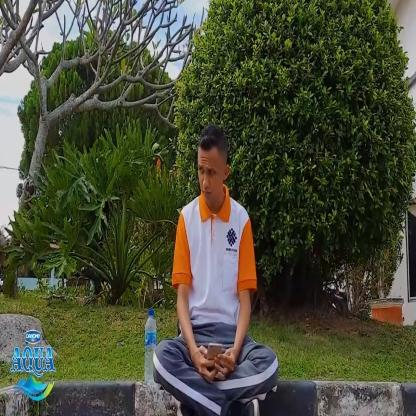plastic_bottles: (141, 303, 162, 388)
